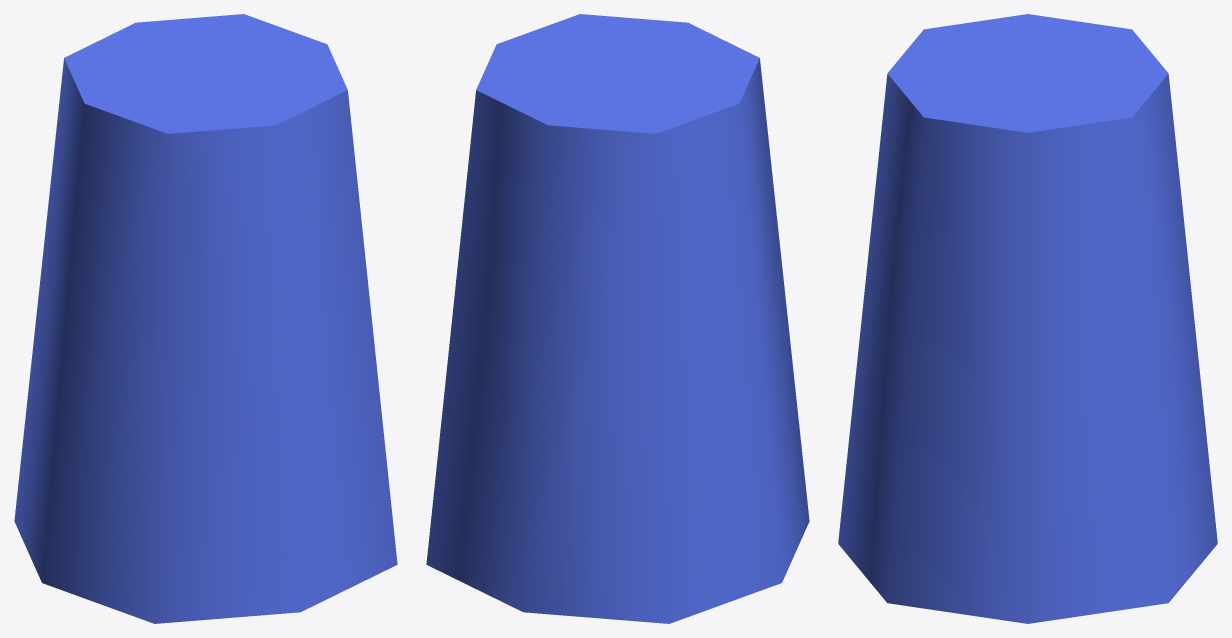
Rendered from House_Kitchen_Goodies_cup.FBX.
3 views of the same model, side by side, from view 1: azimuth 30°, elevation 25°; view 2: azimuth 150°, elevation 25°; view 3: azimuth 270°, elevation 25° (orthographic).
Visible parts, largest first — view 1: House_Kitchen_Goodies_cup; view 2: House_Kitchen_Goodies_cup; view 3: House_Kitchen_Goodies_cup.
Boxes of the visible parts, x1,y1,x2,y2 form: House_Kitchen_Goodies_cup: (14, 14, 397, 623); House_Kitchen_Goodies_cup: (426, 14, 809, 623); House_Kitchen_Goodies_cup: (838, 14, 1217, 623).
Bounding box in the file's own units: 19.28 × 26.35 × 19.28.
